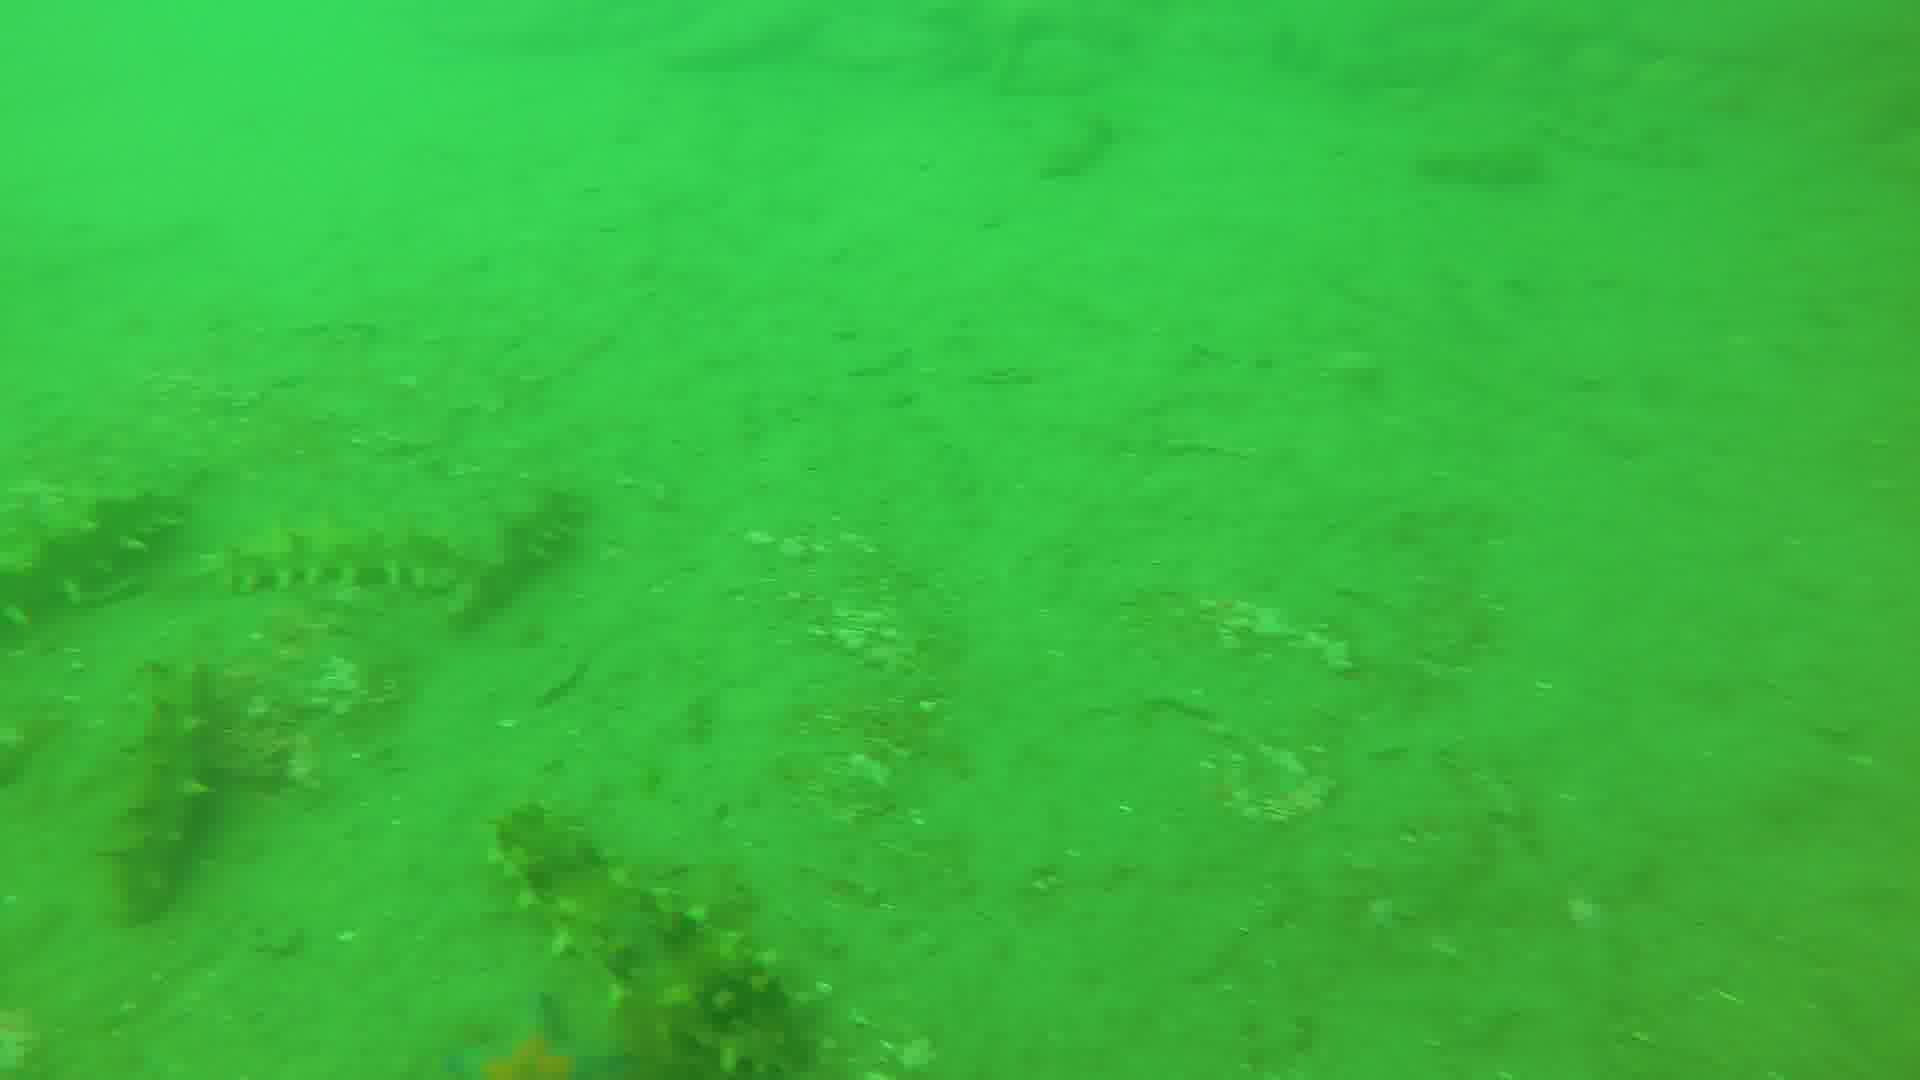echinus: (485, 804, 812, 1073), (98, 662, 219, 923), (1, 483, 198, 634), (442, 481, 592, 630), (208, 527, 465, 600)
starfish: (444, 998, 634, 1080)
